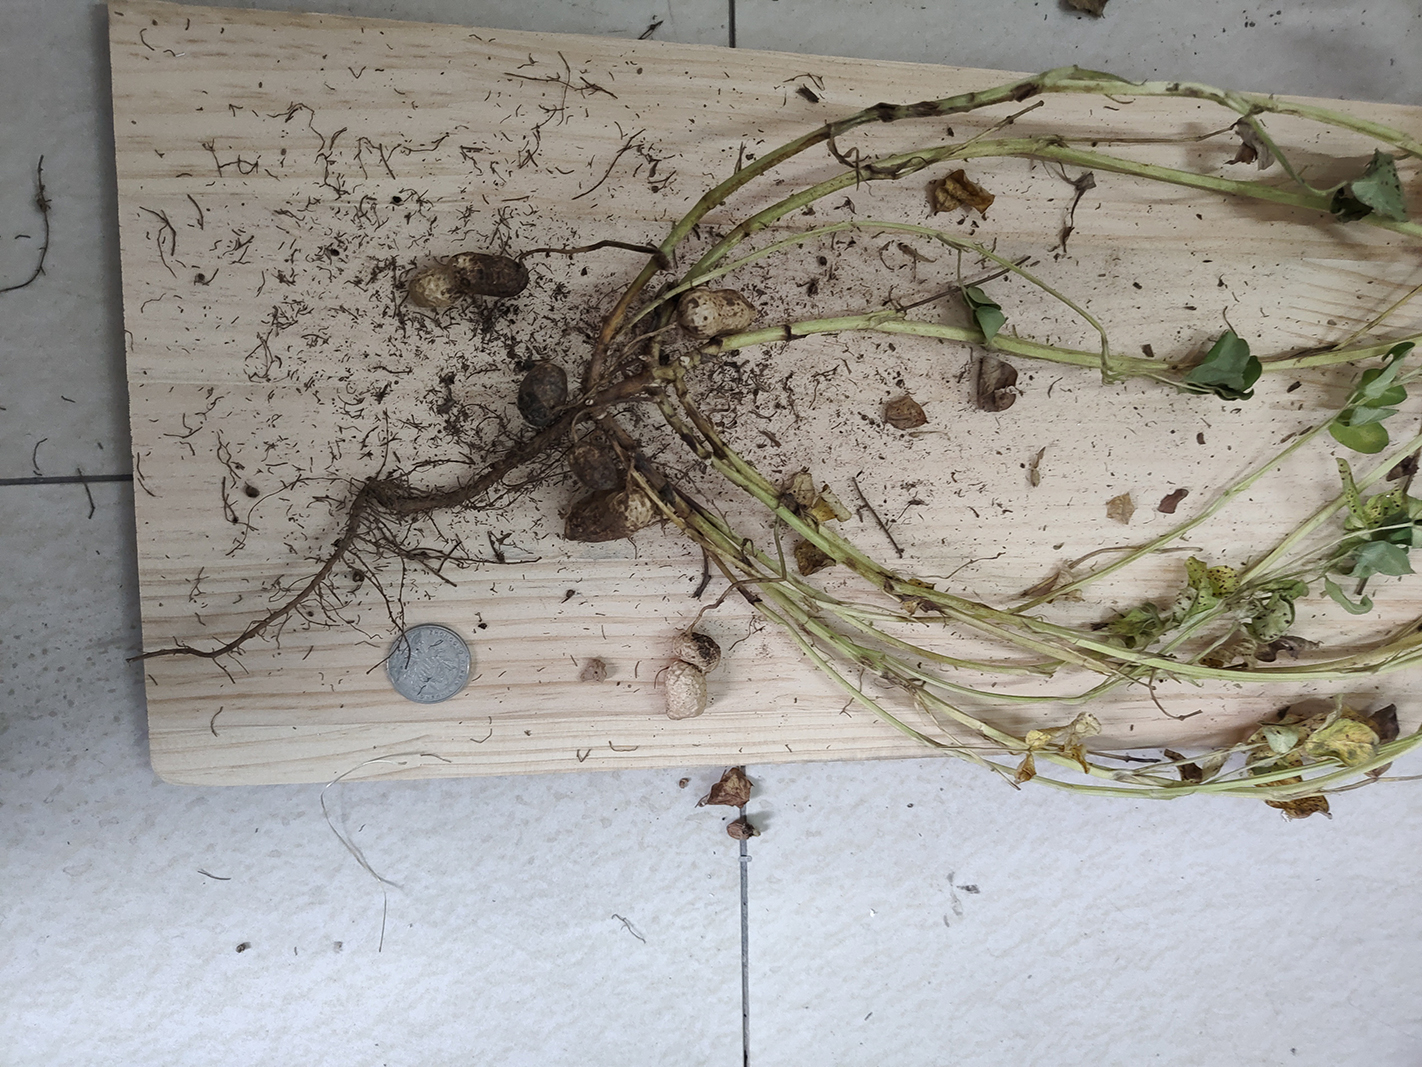h: (663, 630, 722, 720), (678, 290, 761, 338)
l: (410, 251, 529, 310), (565, 489, 654, 542), (519, 364, 570, 428), (569, 440, 615, 490)
